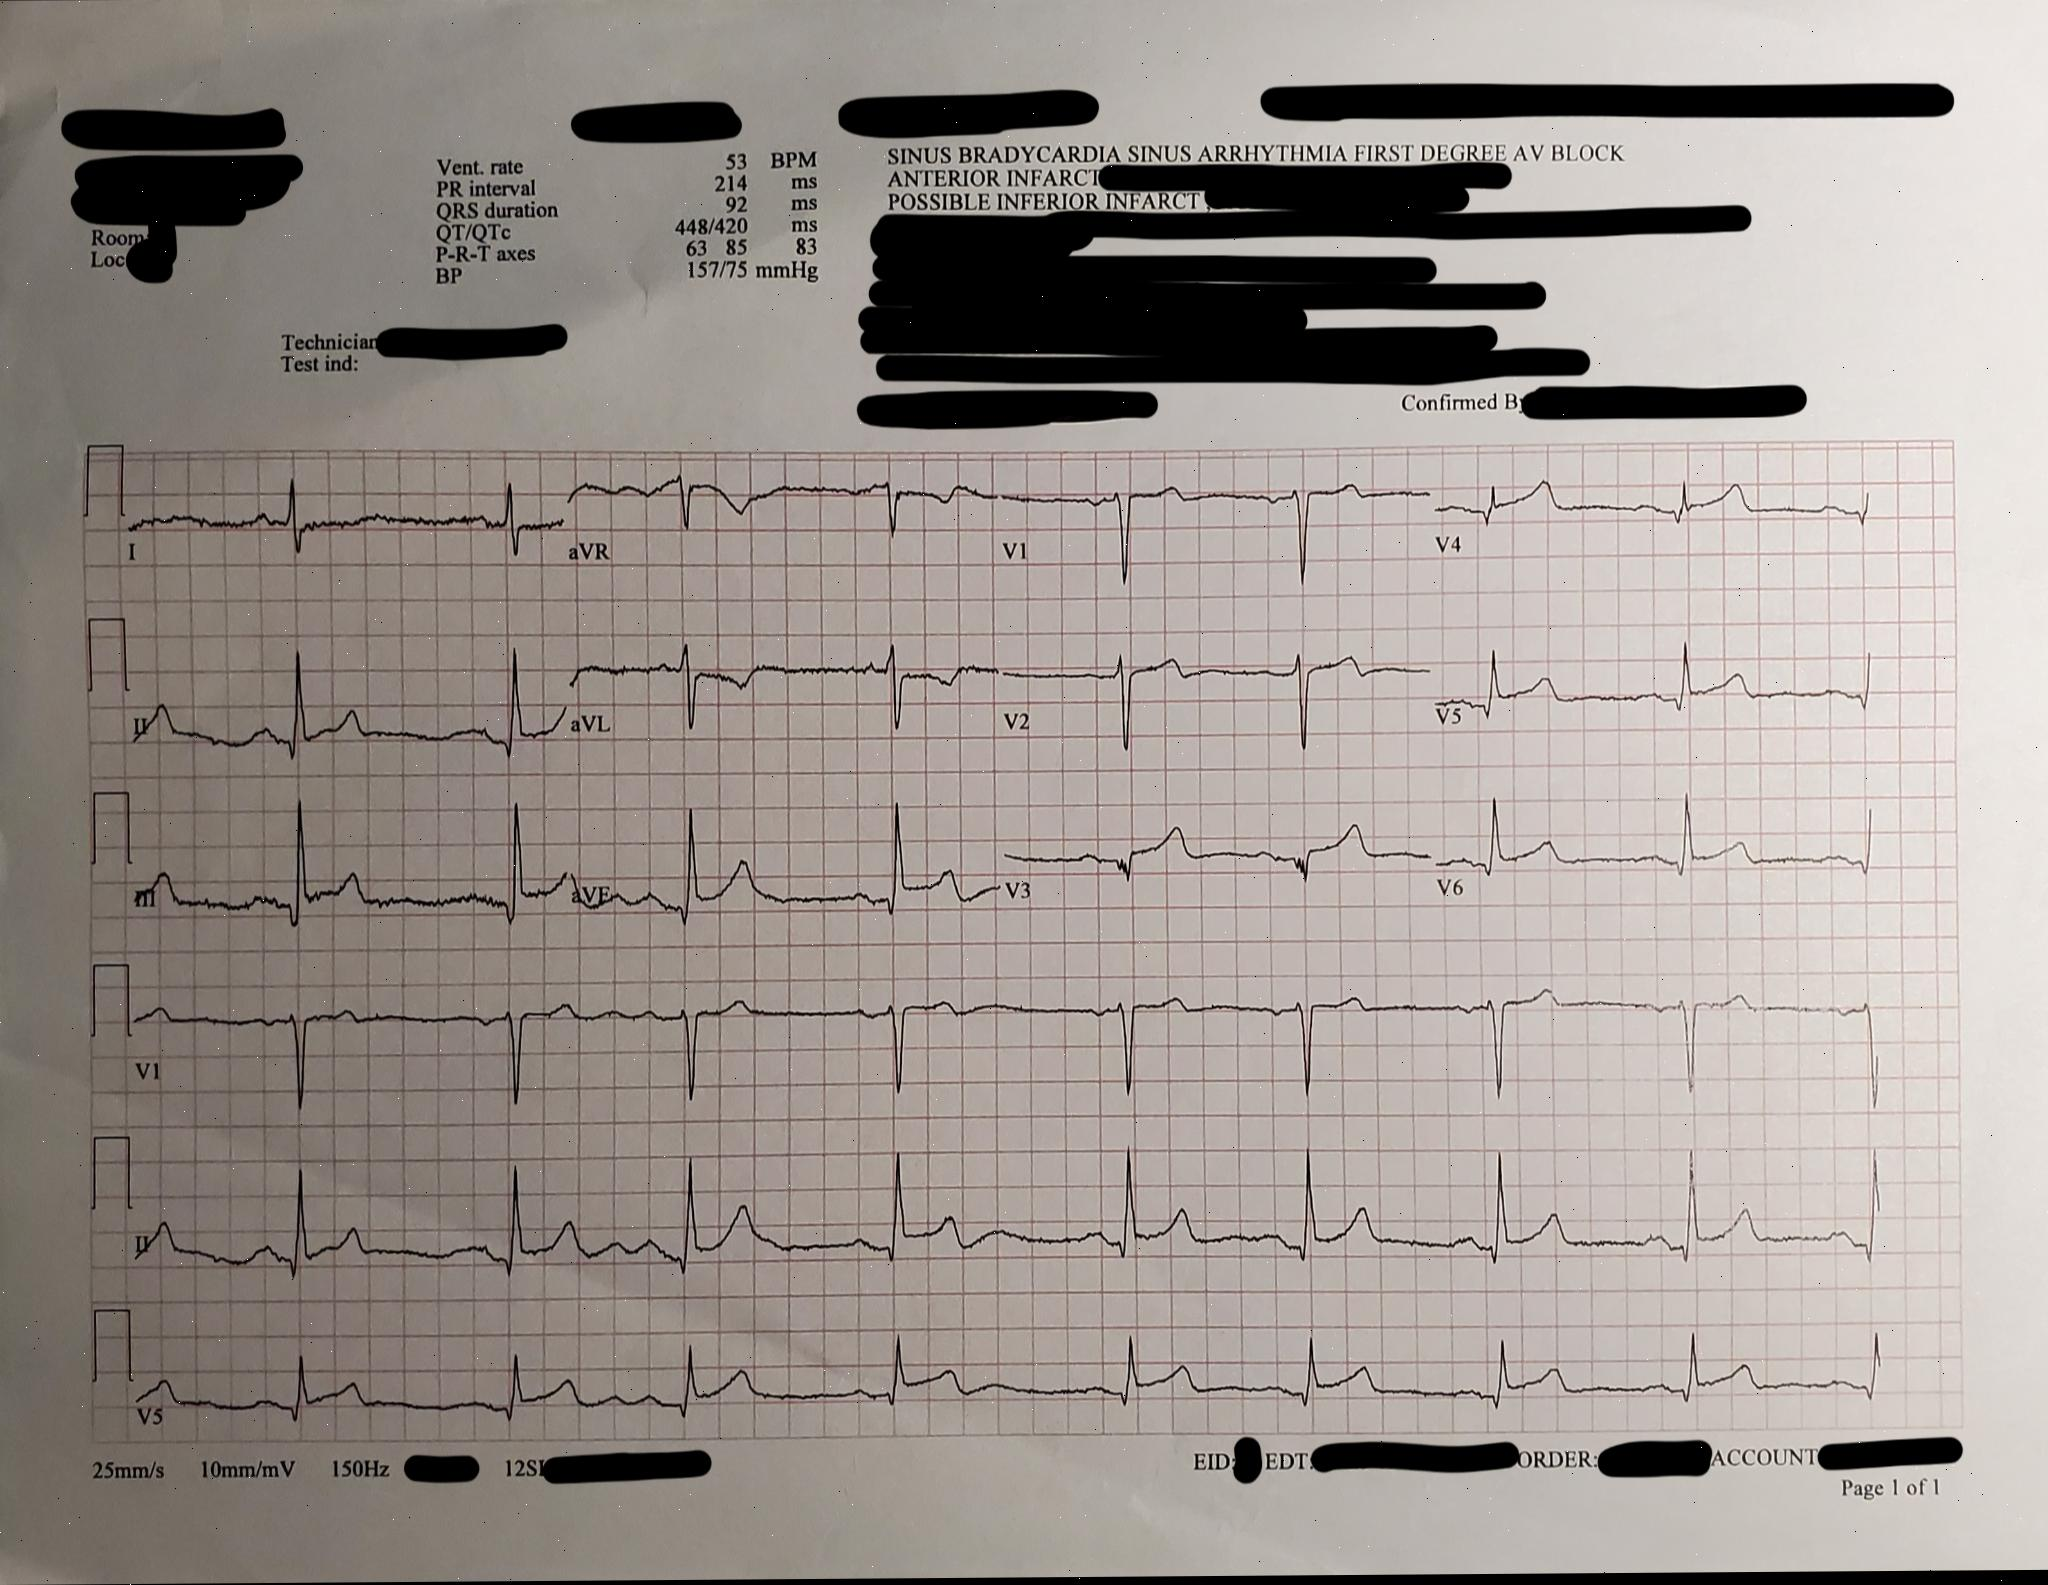Lead_I: (106, 439, 562, 584)
Lead_II: (113, 615, 565, 787)
Lead_III: (123, 798, 567, 956)
Lead_II_ext: (130, 1128, 1915, 1302)
Lead_V1: (976, 442, 1423, 612), (123, 970, 570, 1136)
Lead_V2: (976, 610, 1425, 778)
Lead_V3: (994, 780, 1433, 933)
Lead_V4: (1425, 444, 1893, 605)
Lead_V5: (1425, 605, 1893, 777)
Lead_V6: (1426, 773, 1893, 940)
Lead_aVF: (560, 783, 996, 965)
Lead_aVL: (562, 610, 971, 795)
Lead_aVR: (560, 446, 972, 589)
